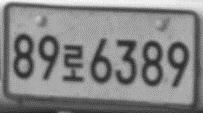3: (115, 38, 137, 86)
6: (89, 37, 112, 83)
8: (141, 39, 163, 87), (12, 33, 34, 80)
9: (166, 39, 190, 88), (37, 34, 59, 80)
로: (62, 43, 84, 83)
